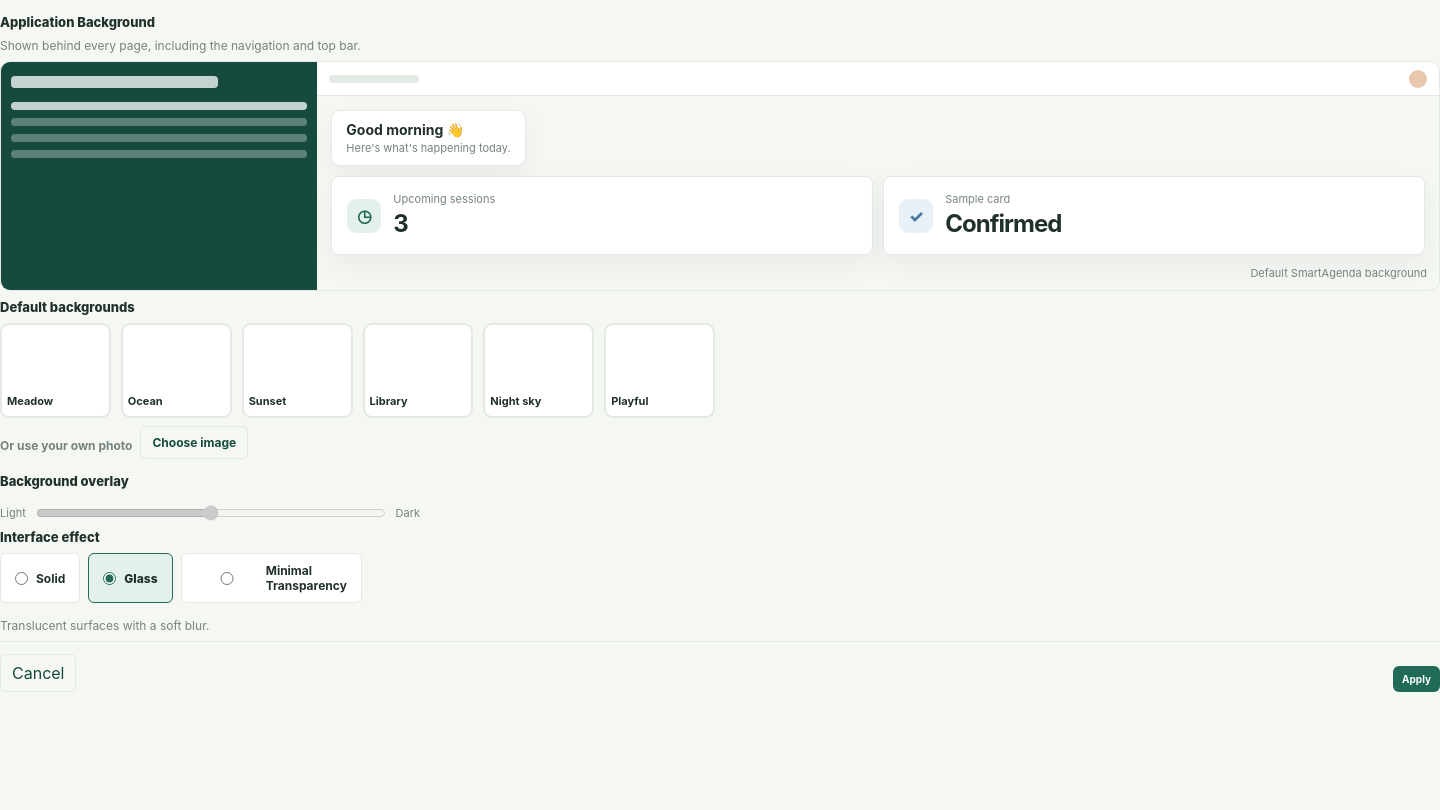
Test: offers built-in backgrounds and applies the selected one
What coordinates should you click on to do the following:
click the button "Ocean"
I would click on:
 (176, 370)
Its box is [121,323,232,418].
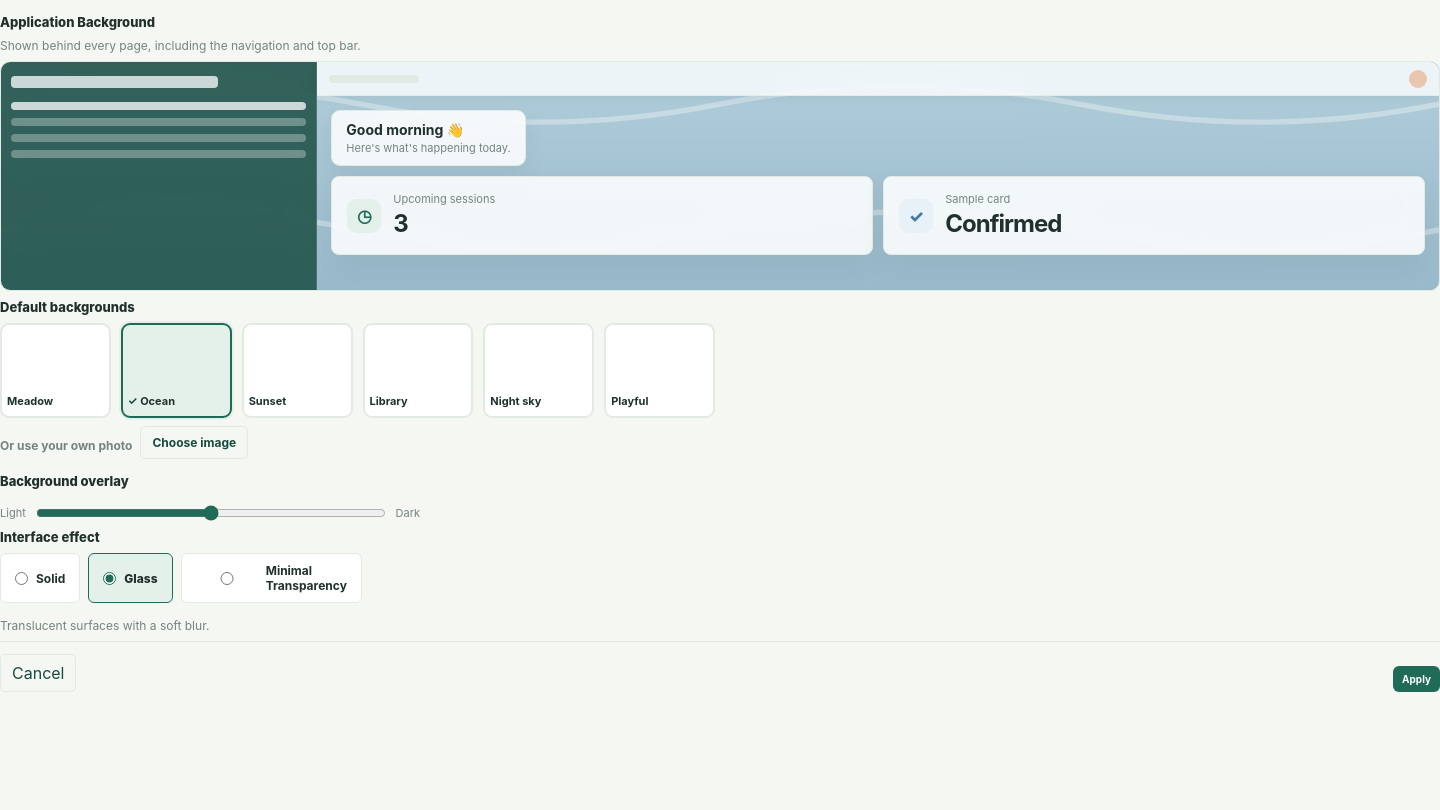
Expected: the file field labelled "Choose image" is shown, [0,427,24,452]
Now the button "✓ Ocean" is pressed, box [121,323,232,418]
What coordinates should you click on to do the following:
click the button "Apply"
I would click on:
 (1417, 679)
Its box is [1393,666,1439,692].
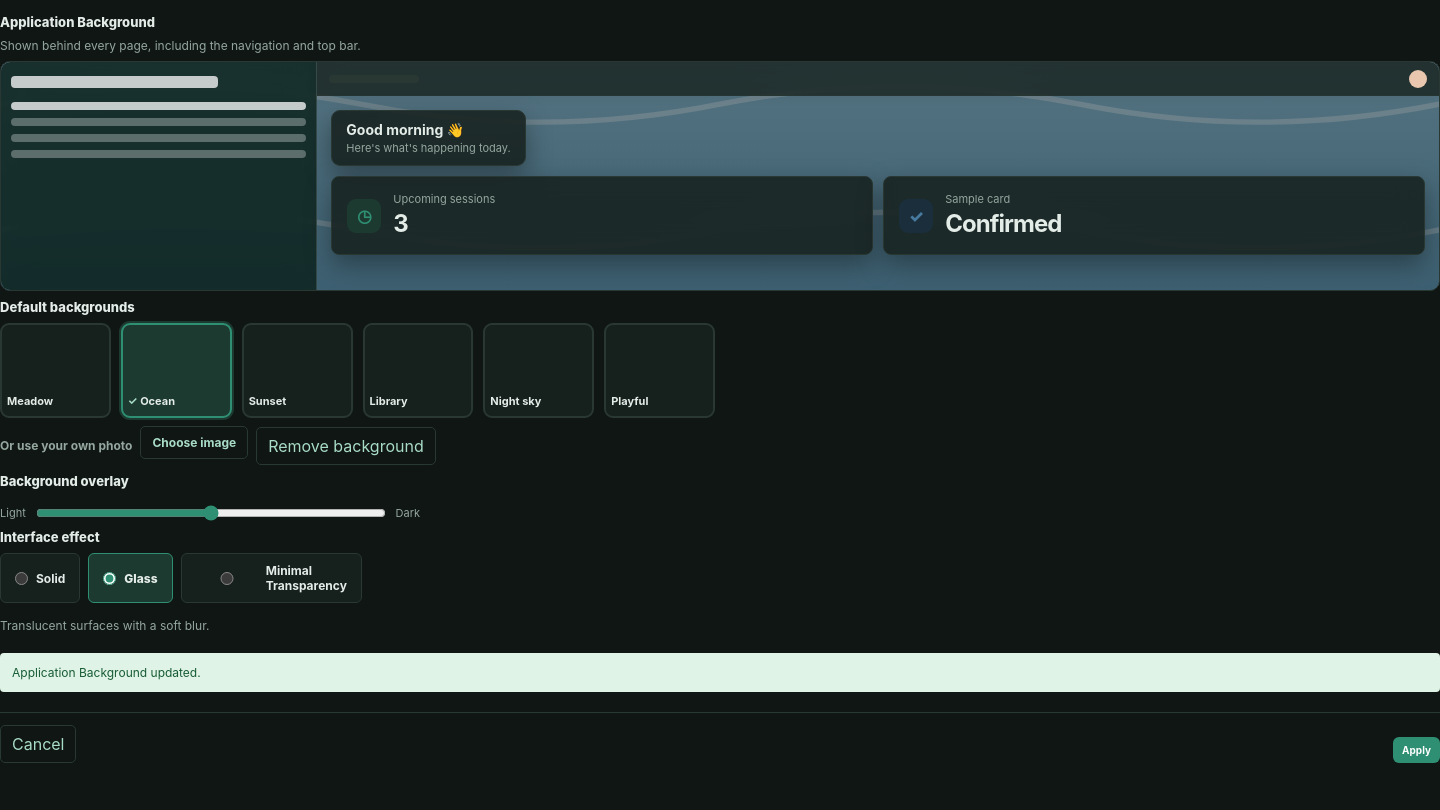
Now the text "Application Background updated." is shown, box [0,653,1439,692]
